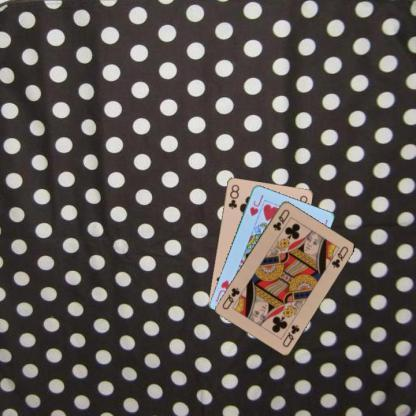8c: (226, 182, 240, 210)
Jh: (246, 192, 264, 217)
Qc: (280, 322, 302, 349), (270, 206, 290, 232)
